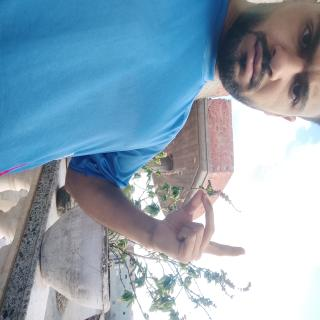TAA: (141, 97, 202, 231)
